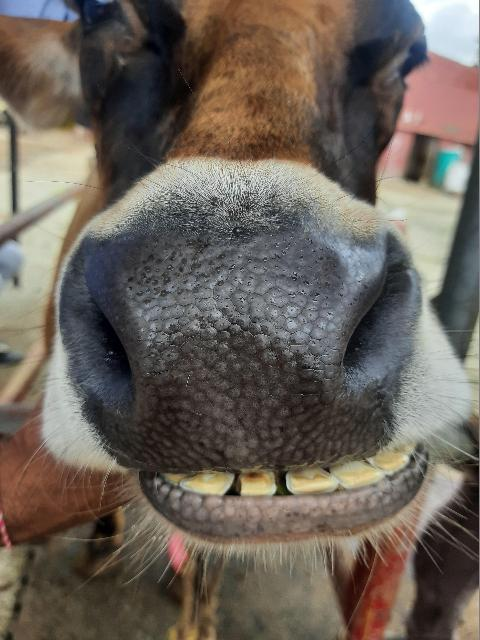Muzzle: (116, 246, 346, 469)
